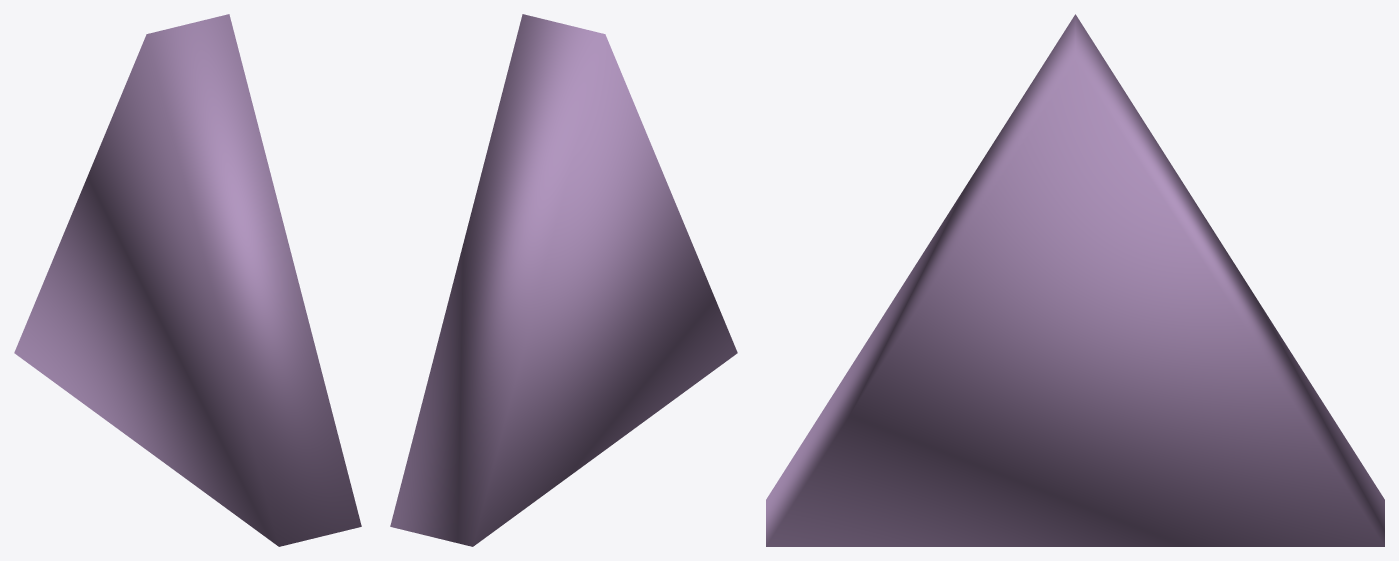
Rendered from shape-triangle-purple.glb.
3 renders of one model, left to right at view 1: azimuth 30°, elevation 25°; view 2: azimuth 150°, elevation 25°; view 3: azimuth 270°, elevation 25°, orthographic. The views are drawn at different scales.
Visible parts, largest first — view 1: solid triangle; view 2: solid triangle; view 3: solid triangle.
Boxes of the visible parts, left/top/right/bottom form: solid triangle: left=14, top=14, right=361, bottom=546; solid triangle: left=390, top=14, right=737, bottom=546; solid triangle: left=766, top=14, right=1384, bottom=546.
Size of the model in its own units: 0.25 by 1.2 by 1.39.
